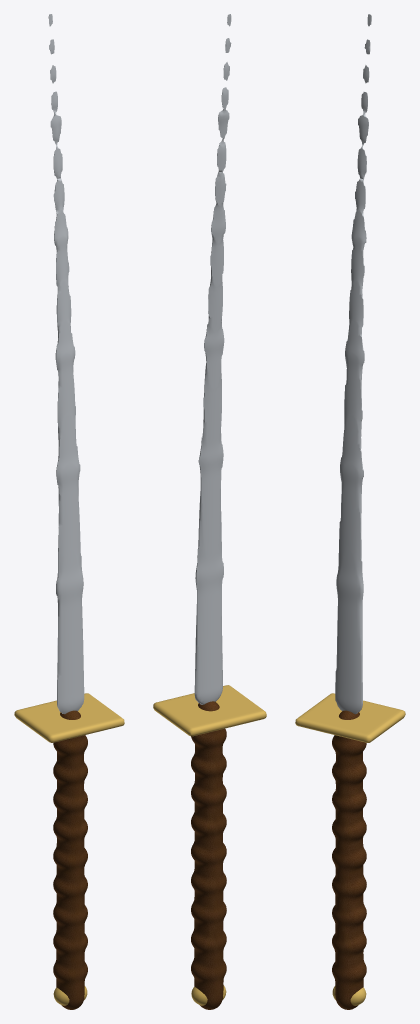
Rendered from w-katana.glb.
3 views of the same model, side by side, from view 1: azimuth 30°, elevation 25°; view 2: azimuth 210°, elevation 25°; view 3: azimuth 330°, elevation 25° (orthographic). The views are drawn at different scales.
Visible parts, largest first — view 1: w-katana; view 2: w-katana; view 3: w-katana.
Boxes of the visible parts, left/top/right/bottom form: w-katana: left=14, top=14, right=124, bottom=1009; w-katana: left=153, top=14, right=266, bottom=1009; w-katana: left=295, top=14, right=405, bottom=1009.
Bounding box in the file's own units: 0.0839 × 1.03 × 0.0727.
3 materials, 1 textured.
